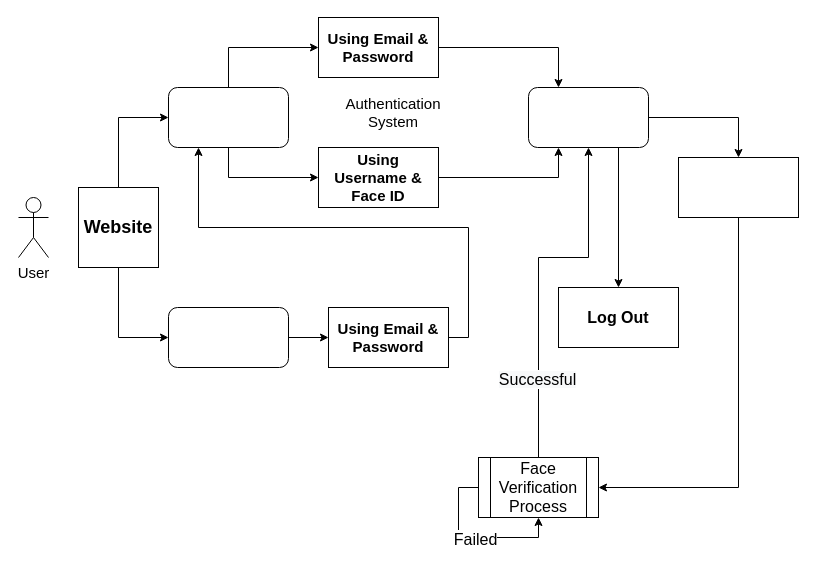
This 816x566 diagram has some shape labels left out. Here are the shapes that lost their labels. From the top down, the centre of each, then its label:
At pixel 228 117: "Login".
At pixel 588 117: "Dashboard".
At pixel 738 187: "Setup Face ID".
At pixel 228 337: "Register".
